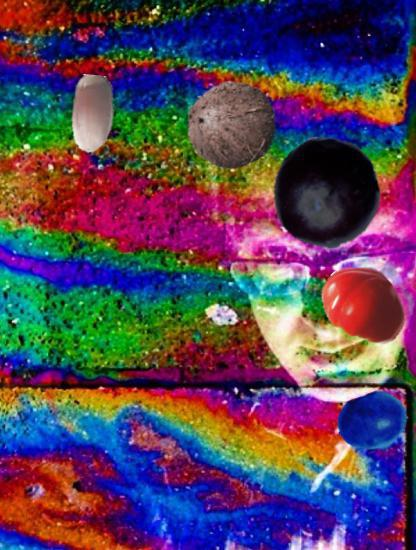Cocos: (185, 79, 278, 172)
Hazelnut: (52, 75, 132, 155)
Huckleberry: (338, 388, 409, 459)
Plum: (270, 136, 383, 249)
Tomato: (318, 261, 409, 352)
